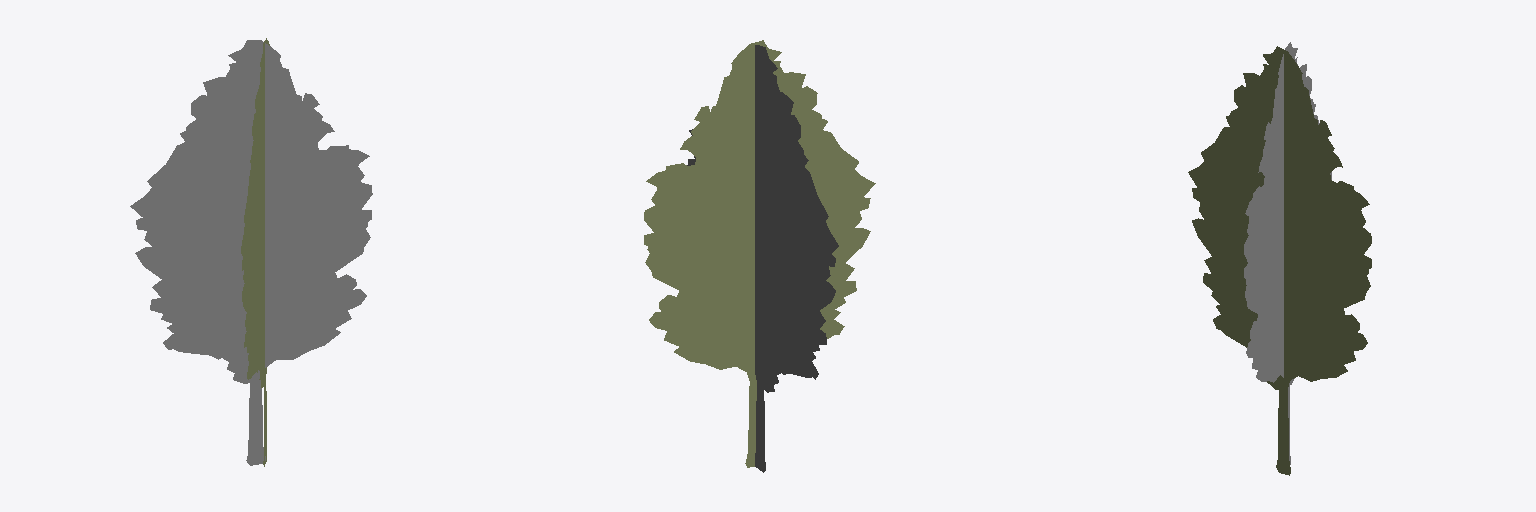
File: masktree.obj
3 views of the same model, side by side, from view 1: azimuth 30°, elevation 25°; view 2: azimuth 150°, elevation 25°; view 3: azimuth 270°, elevation 25° (orthographic).
Parts seen in each view (by area): view 1: Plane, Plane.002; view 2: Plane.002, Plane; view 3: Plane.002, Plane.
Part boxes in pixels (bbox=[...]): Plane: bbox=[130, 40, 372, 465]; Plane.002: bbox=[241, 38, 269, 466]; Plane.002: bbox=[644, 40, 875, 467]; Plane: bbox=[687, 45, 838, 472]; Plane.002: bbox=[1188, 46, 1371, 475]; Plane: bbox=[1244, 42, 1331, 464].
Bounding box in the file's own units: 3.19 × 6.57 × 2.58.